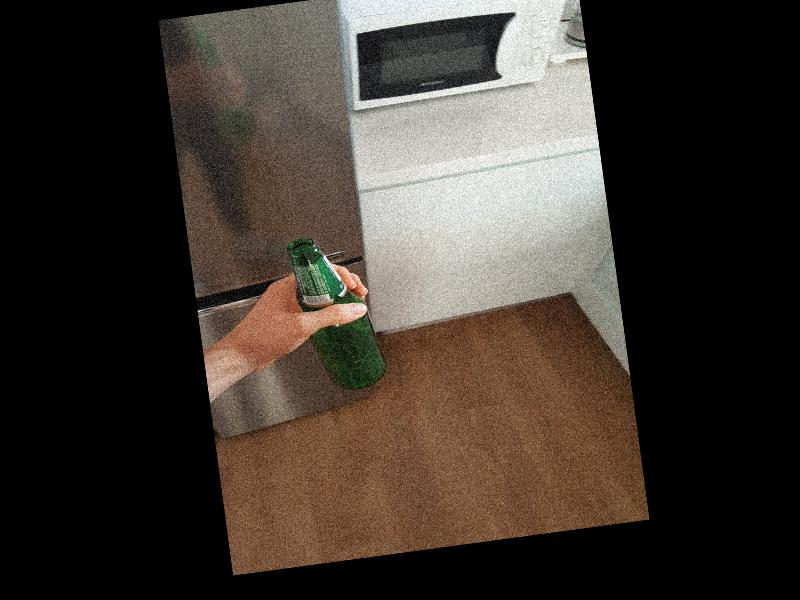Beer: (286, 230, 387, 397)
